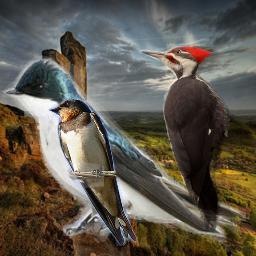Swallow: (2, 55, 246, 242), (48, 98, 137, 246)
Woodpecker: (137, 46, 235, 231)
